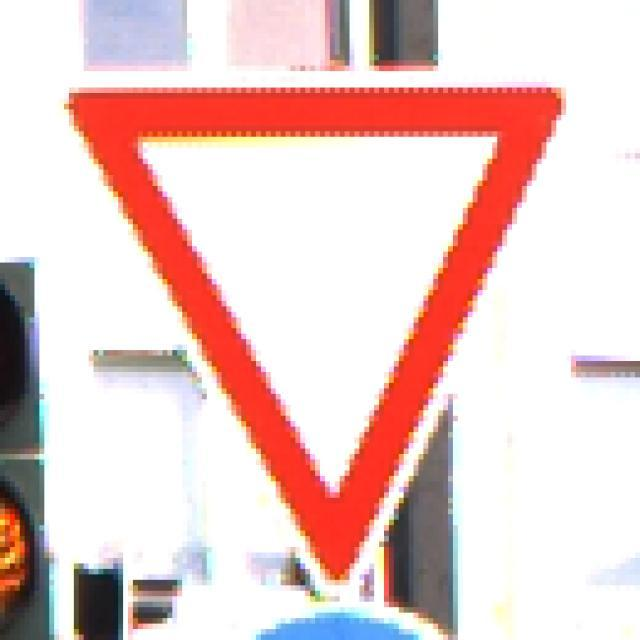give way: (51, 60, 578, 598)
